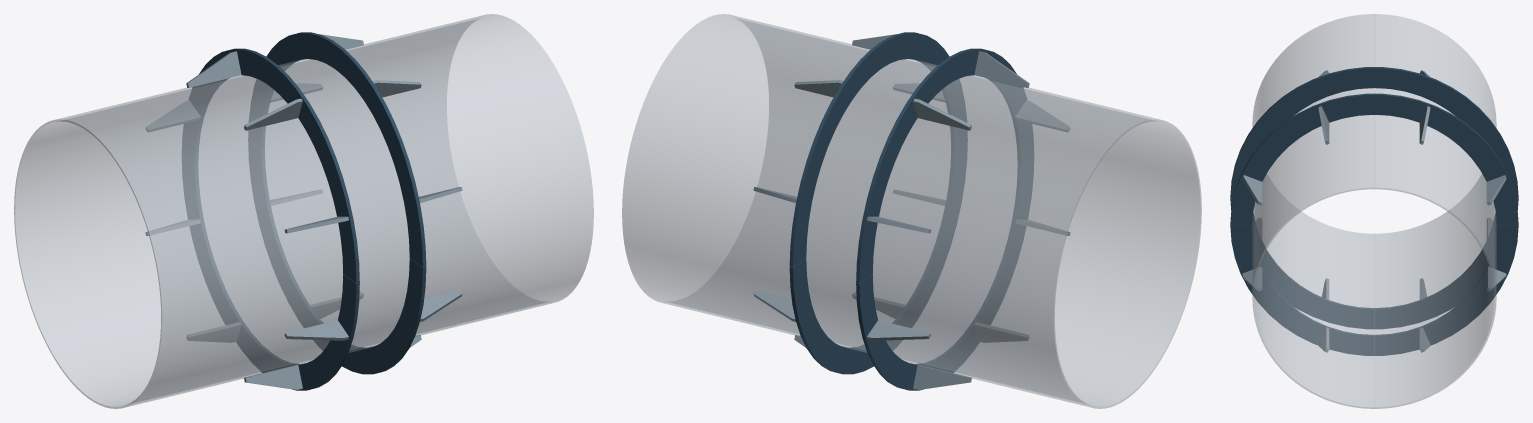
File: TS-666.00.00-20-opora-dn1220-D1440.glb
3 renders of one model, left to right at view 1: azimuth 30°, elevation 25°; view 2: azimuth 150°, elevation 25°; view 3: azimuth 270°, elevation 25°, orthographic. The views are drawn at different scales.
Visible parts, largest first — view 1: truba, polukoltso_1, polukoltso_11, polukoltso_16, polukoltso_6, rebro_8, rebro_18, rebro_17, rebro_9, rebro_7, rebro_19, rebro_12 (+1 smaller); view 2: truba, polukoltso_1, polukoltso_11, polukoltso_16, polukoltso_6, rebro_9, rebro_19, rebro_20, rebro_8, rebro_10, rebro_18, rebro_15 (+1 smaller); view 3: truba, polukoltso_1, polukoltso_11, polukoltso_6, polukoltso_16, rebro_2, rebro_5, rebro_12, rebro_15.
Boxes of the visible parts, bbox=[...] form: truba: bbox=[14, 14, 593, 408]; polukoltso_1: bbox=[248, 32, 426, 267]; polukoltso_11: bbox=[248, 140, 426, 374]; polukoltso_16: bbox=[182, 157, 359, 390]; polukoltso_6: bbox=[182, 48, 359, 283]; rebro_8: bbox=[186, 51, 241, 87]; rebro_18: bbox=[244, 365, 302, 389]; rebro_17: bbox=[284, 320, 348, 340]; rebro_9: bbox=[244, 98, 302, 130]; rebro_7: bbox=[146, 101, 200, 131]; rebro_19: bbox=[187, 322, 240, 342]; rebro_12: bbox=[420, 290, 462, 321]; truba: bbox=[622, 14, 1201, 408]; polukoltso_1: bbox=[789, 32, 967, 267]; polukoltso_11: bbox=[789, 140, 967, 374]; polukoltso_16: bbox=[856, 157, 1033, 390]; polukoltso_6: bbox=[856, 48, 1033, 283]; rebro_9: bbox=[974, 51, 1029, 87]; rebro_19: bbox=[913, 365, 971, 389]; rebro_20: bbox=[867, 320, 931, 340]; rebro_8: bbox=[913, 98, 971, 130]; rebro_10: bbox=[1015, 101, 1069, 131]; rebro_18: bbox=[975, 322, 1028, 342]; rebro_15: bbox=[753, 290, 795, 321]; truba: bbox=[1252, 14, 1496, 408]; polukoltso_1: bbox=[1230, 93, 1518, 225]; polukoltso_11: bbox=[1230, 225, 1518, 355]; polukoltso_6: bbox=[1230, 67, 1518, 198]; polukoltso_16: bbox=[1230, 198, 1518, 329]; rebro_2: bbox=[1486, 175, 1506, 205]; rebro_5: bbox=[1242, 175, 1262, 205]; rebro_12: bbox=[1242, 267, 1262, 291]; rebro_15: bbox=[1486, 267, 1506, 291].
Size of the model in its own units: 2052 by 1437 by 1440.
